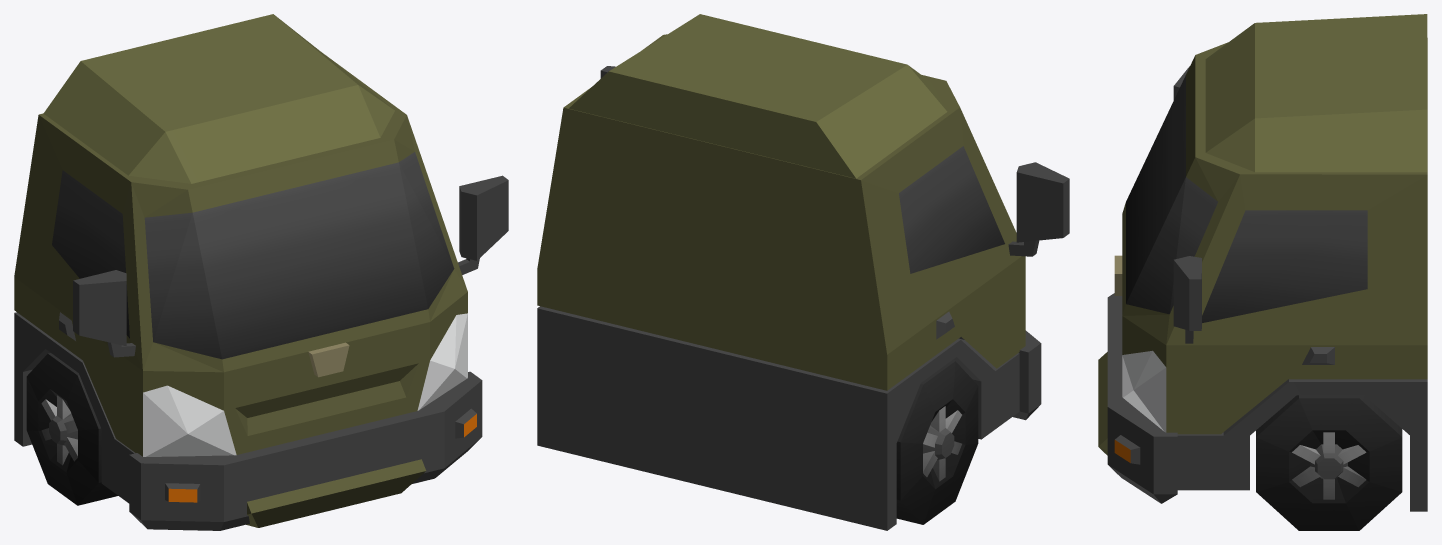
File: head_C_1.fbx
3 renders of one model, left to right at view 1: azimuth 30°, elevation 25°; view 2: azimuth 150°, elevation 25°; view 3: azimuth 270°, elevation 25°, orthographic. The views are drawn at different scales.
Parts seen in each view (by area): view 1: head_C_1; view 2: head_C_1; view 3: head_C_1.
Boxes of the visible parts, box(x1,y1,x2,y2) form: head_C_1: box(14, 14, 508, 530); head_C_1: box(537, 14, 1069, 530); head_C_1: box(1098, 14, 1427, 530).
Size of the model in its own units: 1608 by 1368 by 1052.
